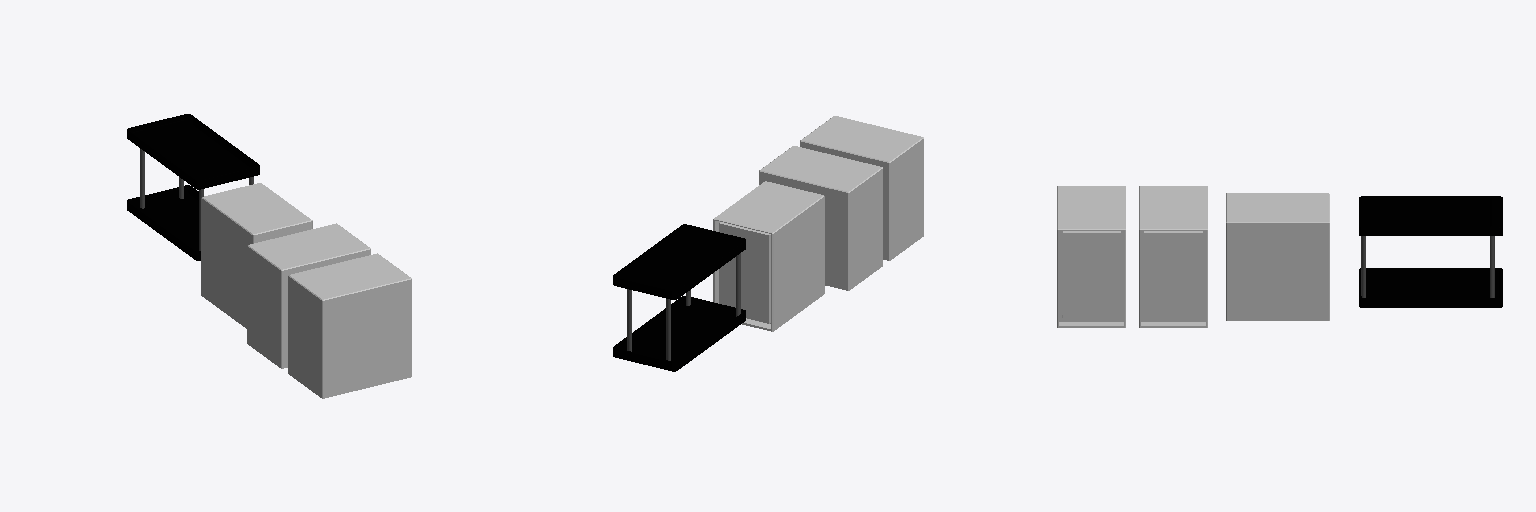
Rendered from Kit.obj.
3 renders of one model, left to right at view 1: azimuth 30°, elevation 25°; view 2: azimuth 150°, elevation 25°; view 3: azimuth 270°, elevation 25°, orthographic.
Parts seen in each view (by area): view 1: Unit_C, Trolley_A, Unit_A, Unit_B; view 2: Unit_A, Trolley_A, Unit_B, Unit_C; view 3: Unit_A, Trolley_A, Unit_B, Unit_C.
Part boxes in pixels (left/top/right/bottom): Unit_C: left=288, top=253, right=411, bottom=398; Trolley_A: left=127, top=114, right=259, bottom=260; Unit_A: left=201, top=183, right=312, bottom=328; Unit_B: left=247, top=223, right=370, bottom=368; Unit_A: left=713, top=181, right=824, bottom=331; Trolley_A: left=613, top=224, right=745, bottom=371; Unit_B: left=759, top=146, right=882, bottom=290; Unit_C: left=800, top=116, right=923, bottom=260; Unit_A: left=1226, top=193, right=1329, bottom=320; Trolley_A: left=1359, top=196, right=1502, bottom=307; Unit_B: left=1139, top=186, right=1207, bottom=327; Unit_C: left=1057, top=186, right=1125, bottom=327.
Size of the model in its own units: 0.8738 by 0.9337 by 3.74.